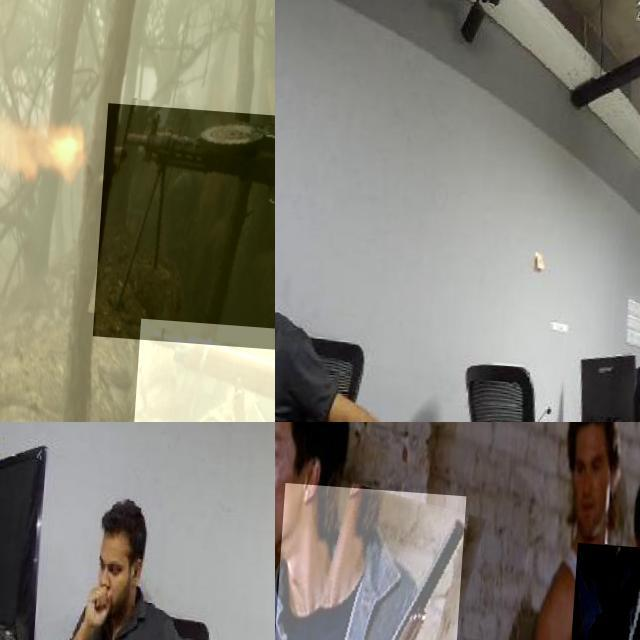gun-knife-thesis - v11 Yolov5 augmented: (99, 99, 275, 346), (275, 480, 468, 640), (139, 314, 275, 422), (570, 536, 640, 640)
